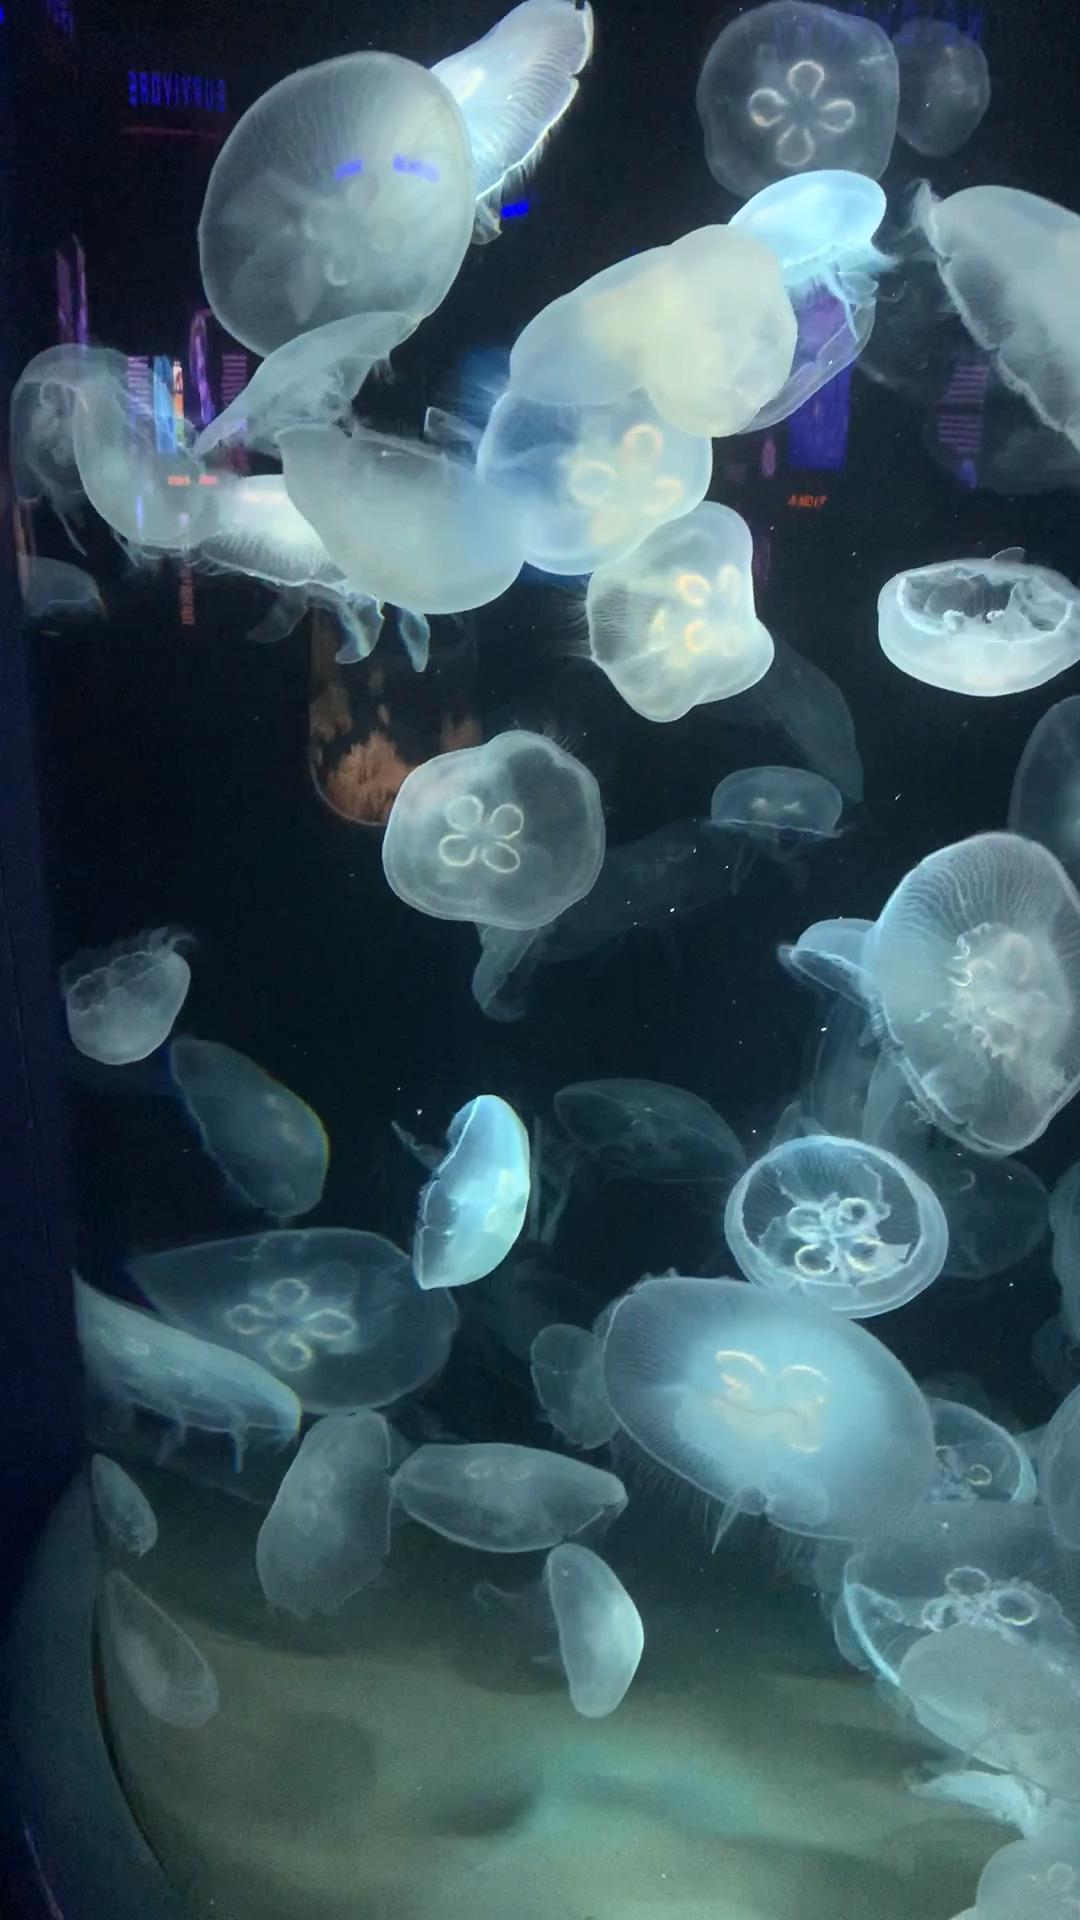jellyfish: (191, 49, 502, 365), (588, 1270, 938, 1549), (857, 835, 1080, 1166), (21, 331, 269, 584), (278, 407, 545, 640), (506, 229, 796, 440), (146, 1216, 458, 1411), (475, 367, 719, 570), (827, 1516, 1080, 1712), (596, 489, 789, 741), (375, 733, 612, 936), (713, 1135, 959, 1331), (680, 0, 923, 191), (71, 1275, 314, 1455), (866, 1593, 1080, 1793), (930, 165, 1080, 447), (414, 0, 624, 195), (174, 1033, 348, 1225), (869, 555, 1080, 713), (249, 1400, 397, 1617), (400, 1102, 556, 1305), (396, 1432, 620, 1557), (756, 152, 899, 307), (903, 1377, 1040, 1528), (542, 1545, 655, 1729), (558, 1076, 742, 1184), (108, 1582, 229, 1734), (61, 938, 193, 1065), (885, 16, 993, 164), (529, 1312, 634, 1455), (947, 1811, 1077, 1920), (719, 764, 847, 840), (74, 1456, 162, 1552)
